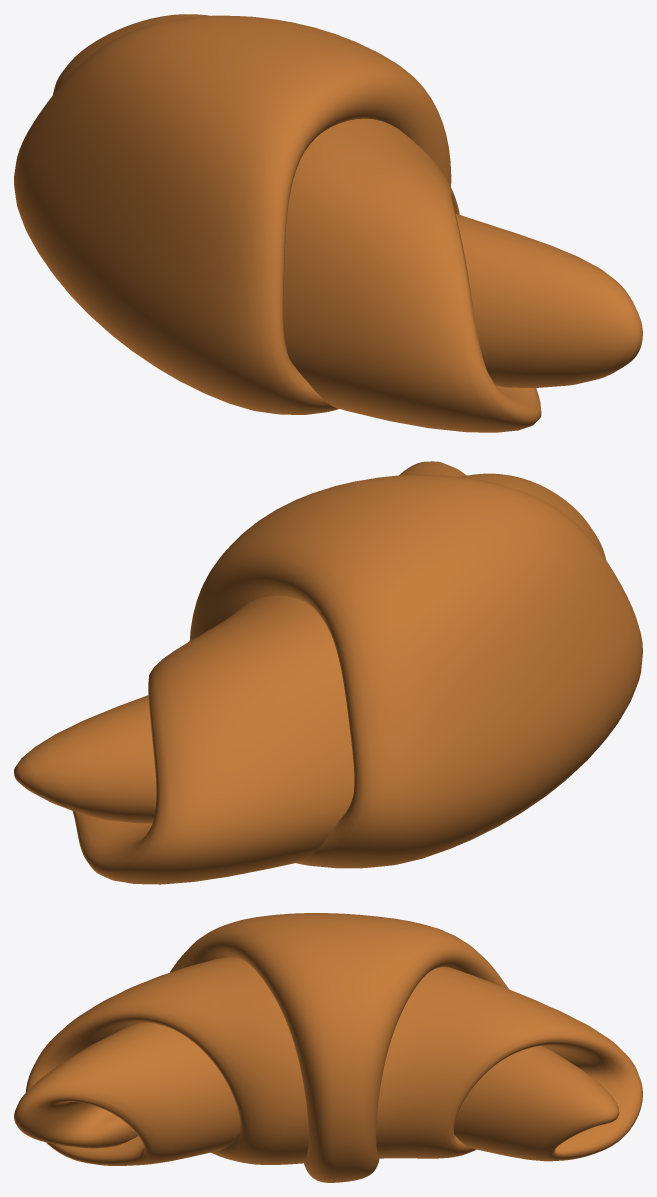
File: Quaso.fbx
3 renders of one model, top to bottom at view 1: azimuth 30°, elevation 25°; view 2: azimuth 150°, elevation 25°; view 3: azimuth 270°, elevation 25°, orthographic. The views are drawn at different scales.
Visible parts, largest first — view 1: Cube; view 2: Cube; view 3: Cube.
Boxes of the visible parts, x1,y1,x2,y2 form: Cube: [14, 14, 642, 432]; Cube: [14, 461, 642, 884]; Cube: [14, 913, 642, 1182].
Bounding box in the file's own units: 120 × 96.44 × 252.
